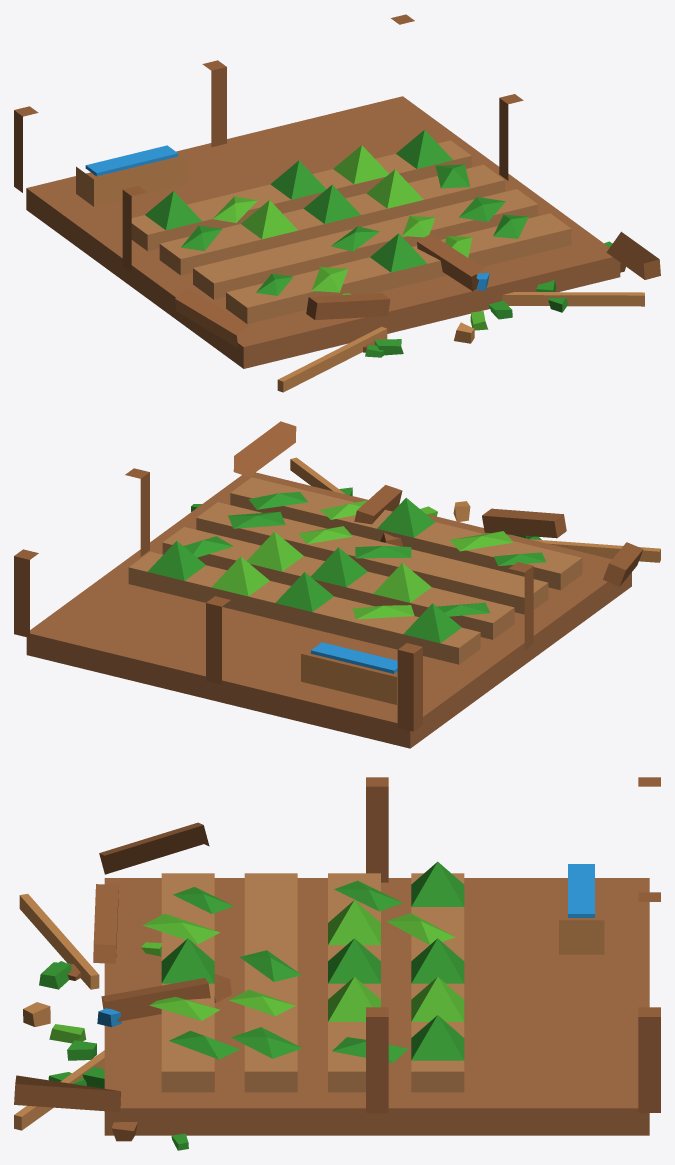
File: field_t2_v2_dmg1.glb
3 renders of one model, top to bottom at view 1: azimuth 30°, elevation 25°; view 2: azimuth 150°, elevation 25°; view 3: azimuth 270°, elevation 25°, orthographic. The views are drawn at different scales.
Parts seen in each view (by area): view 1: field_t2_v2_dmg1; view 2: field_t2_v2_dmg1; view 3: field_t2_v2_dmg1.
Boxes of the visible parts, x1,y1,x2,y2 form: field_t2_v2_dmg1: (14, 14, 660, 392); field_t2_v2_dmg1: (14, 421, 660, 748); field_t2_v2_dmg1: (14, 777, 660, 1150).
Size of the model in its own units: 0.8274 by 0.18 by 0.855.
Materials: 1 (1 with a texture image).
